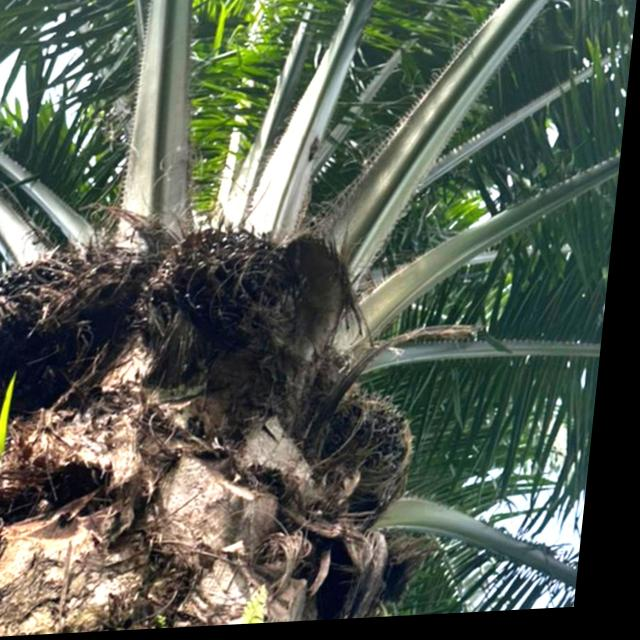ripe: (0, 240, 125, 424), (150, 212, 308, 348)
